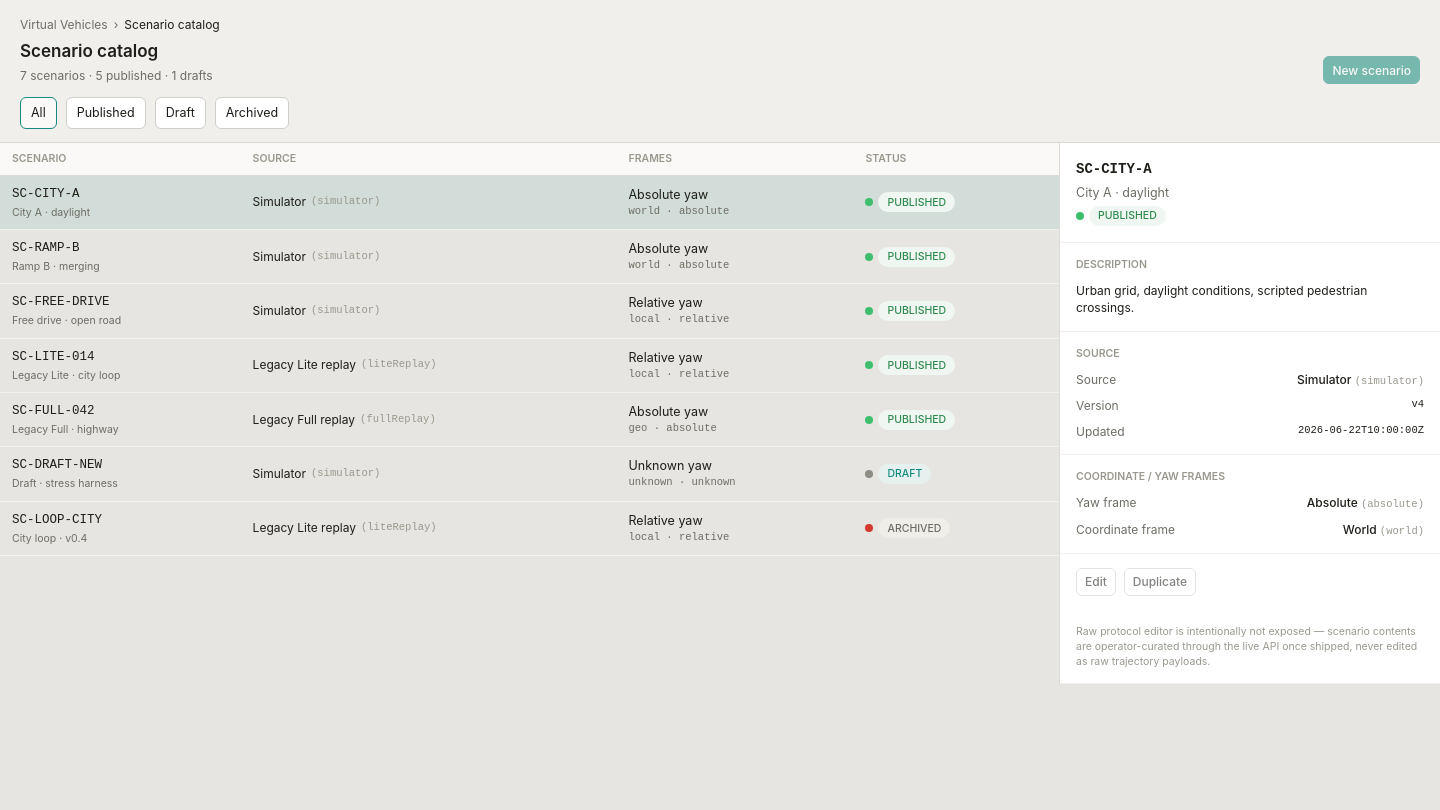
VirtualVehicleScenarioCatalogScreen › detail aside renders compatibility fields (yaw + coordinate frame) for Full scenario
The width and height of the screenshot is (1440, 810).
Check: the button "SC-CITY-A City A · daylight" is shown, box [12,185,229,220]
Click the button "SC-FULL-042 Legacy Full · highway" at [120, 420], box [12,402,229,437]
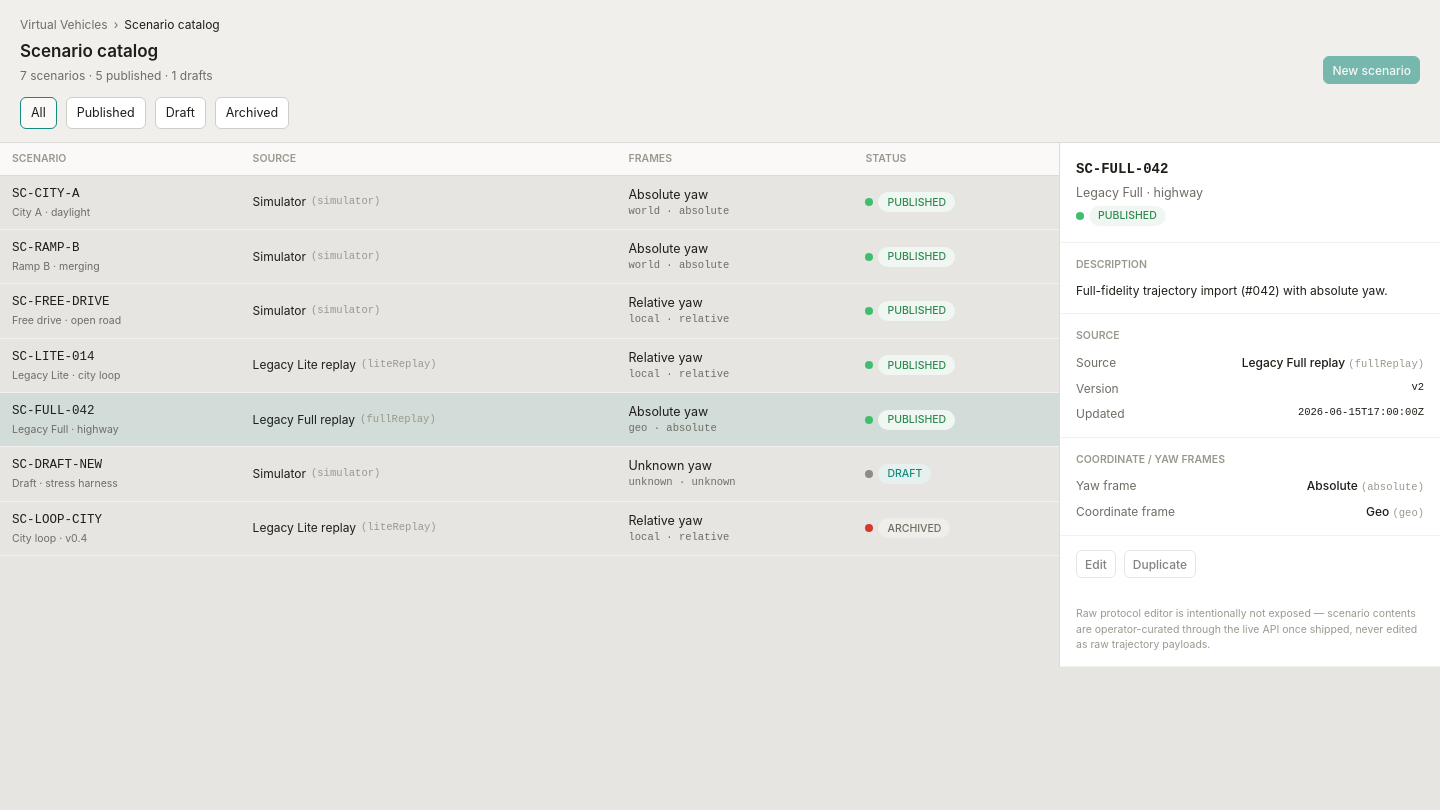
Check: the text "(absolute)" is shown, box [1361,481,1424,493]
Check: the text "(geo)" is shown, box [1392,507,1424,519]
